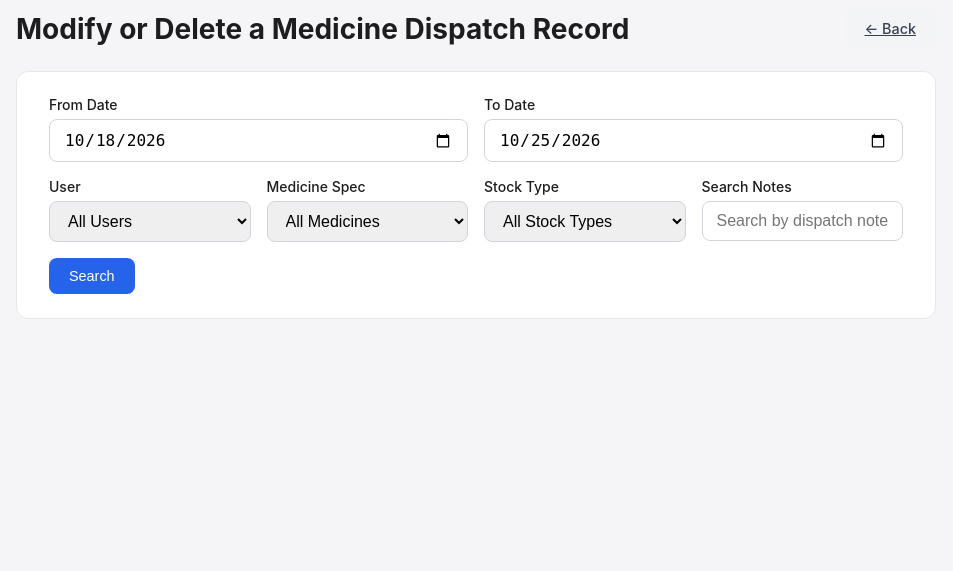
Test case: AdminEditDispatch — search › shows results table with rows when records returned
Click the button "Search": (92, 276) [49,258,135,294]
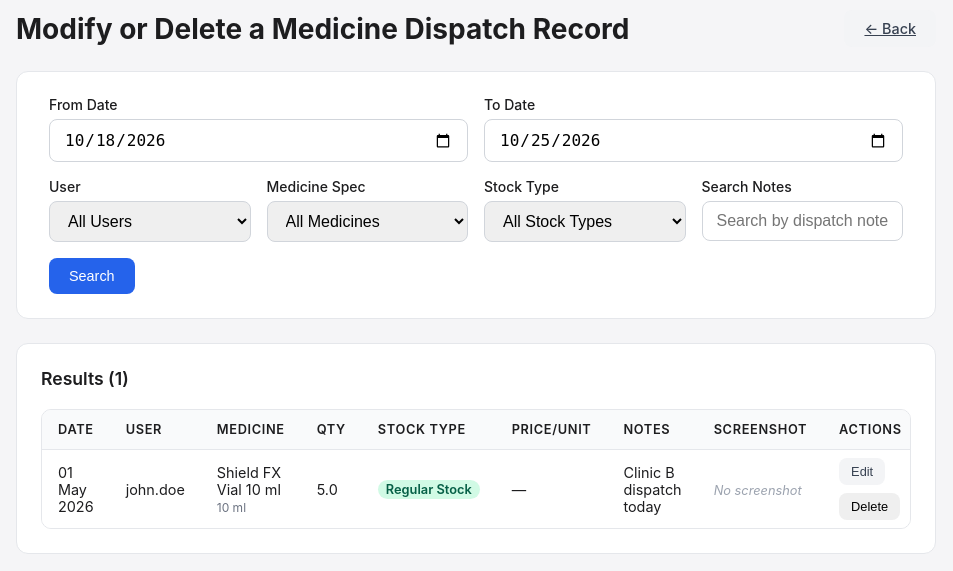
Now the table is shown, box [42,410,911,528]
Now the text "john.doe" is shown, box [110,450,201,528]
Now the text "Shield FX Vial 10 ml" is shown, box [217,464,281,498]
